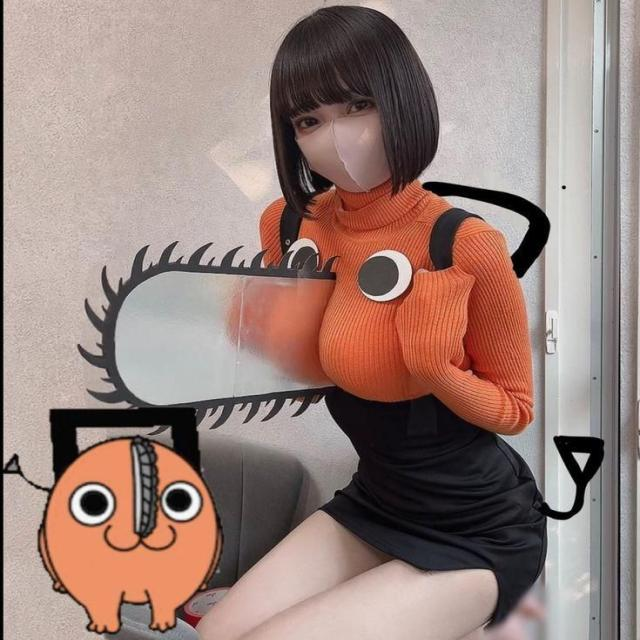sit: (190, 1, 569, 637)
